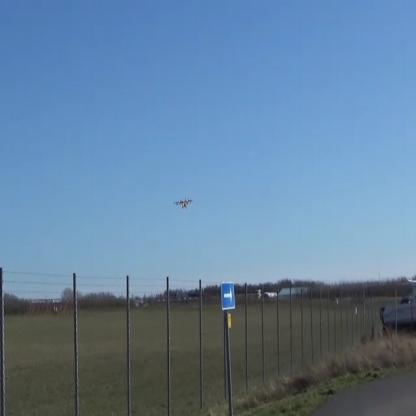CIV_Plane: (171, 194, 196, 211)
